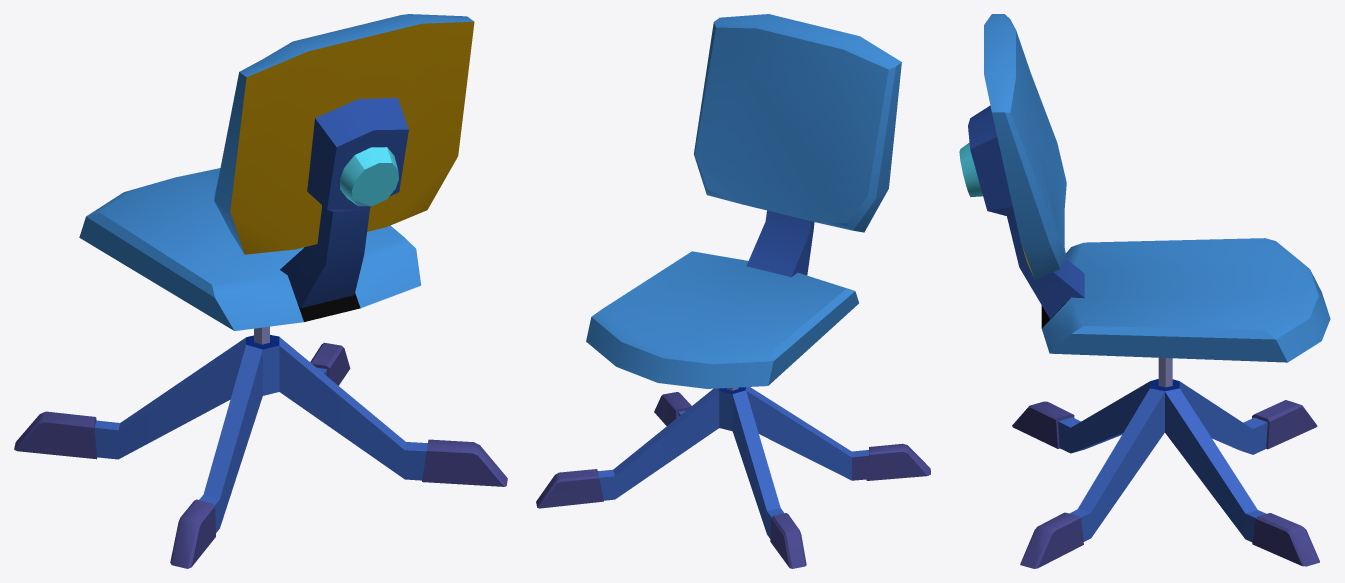
3 renders of one model, left to right at view 1: azimuth 30°, elevation 25°; view 2: azimuth 150°, elevation 25°; view 3: azimuth 270°, elevation 25°, orthographic. The views are drawn at different scales.
Visible parts, largest first — view 1: Joint_0_Object_0, Joint_0_Object_2, Joint_0_Object_4; view 2: Joint_0_Object_0, Joint_0_Object_2, Joint_0_Object_4; view 3: Joint_0_Object_0, Joint_0_Object_2, Joint_0_Object_4.
Part boxes in pixels (left/top/right/bottom): Joint_0_Object_0: left=79, top=14, right=474, bottom=330; Joint_0_Object_2: left=94, top=147, right=427, bottom=532; Joint_0_Object_4: left=14, top=342, right=507, bottom=568; Joint_0_Object_0: left=586, top=14, right=901, bottom=388; Joint_0_Object_2: left=598, top=387, right=868, bottom=538; Joint_0_Object_4: left=536, top=392, right=930, bottom=568; Joint_0_Object_0: left=968, top=14, right=1330, bottom=362; Joint_0_Object_2: left=959, top=142, right=1267, bottom=542; Joint_0_Object_4: left=1012, top=400, right=1319, bottom=568.
Size of the model in its own units: 1378 by 1945 by 1468.
